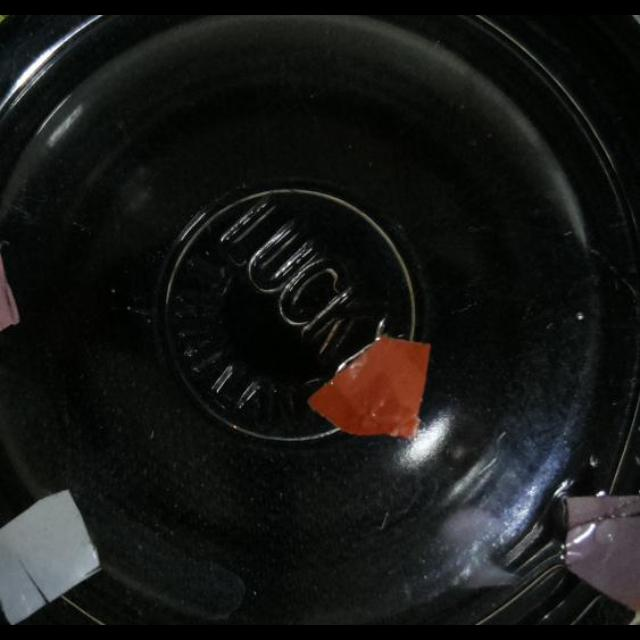Fragment: (0, 487, 104, 623), (307, 333, 433, 441), (560, 491, 640, 617), (1, 248, 20, 339)
